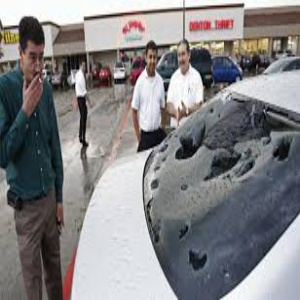rear_windshield_glass: (162, 116, 283, 247)
